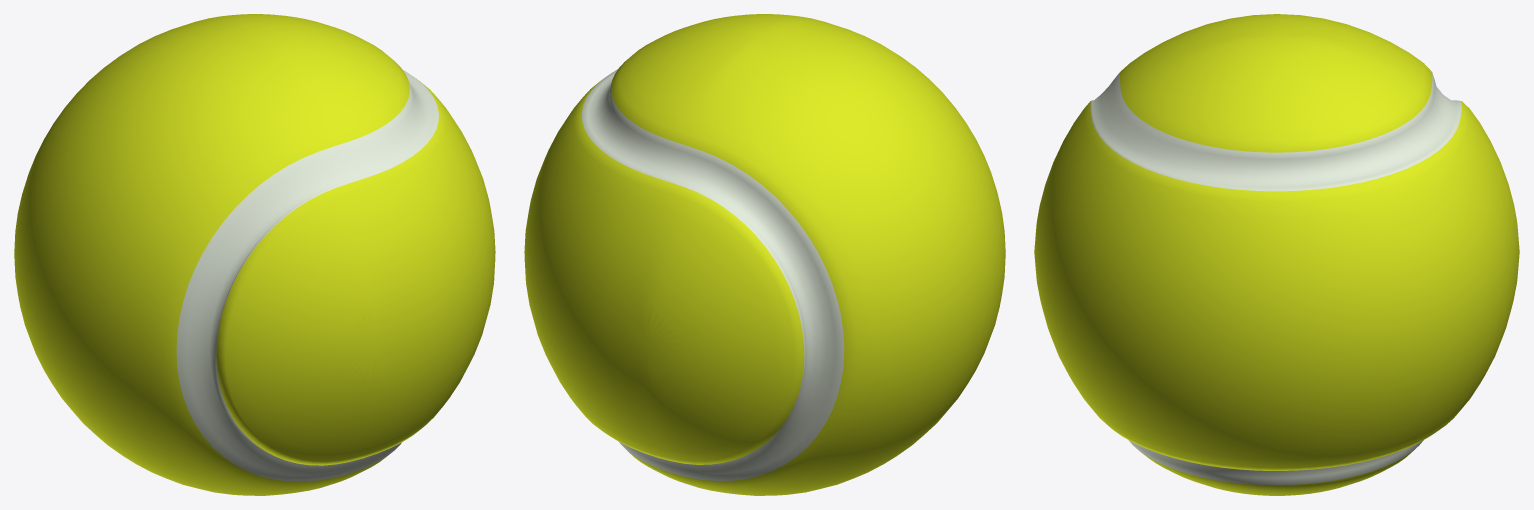
The model's file is tennisball.fbx.
3 views of the same model, side by side, from view 1: azimuth 30°, elevation 25°; view 2: azimuth 150°, elevation 25°; view 3: azimuth 270°, elevation 25° (orthographic).
Visible parts, largest first — view 1: Sphere; view 2: Sphere; view 3: Sphere.
Part boxes in pixels (left/top/right/bottom): Sphere: left=14, top=14, right=495, bottom=495; Sphere: left=524, top=14, right=1005, bottom=495; Sphere: left=1034, top=14, right=1519, bottom=495.
Bounding box in the file's own units: 197 × 199 × 199.
